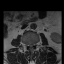CCS_stenosis: (30, 41, 32, 49)
LFS_stenosis: (33, 41, 35, 47)
LLS_stenosis: (32, 41, 33, 48)
RFS_stenosis: (26, 42, 28, 47)
RLS_stenosis: (28, 42, 30, 48)
